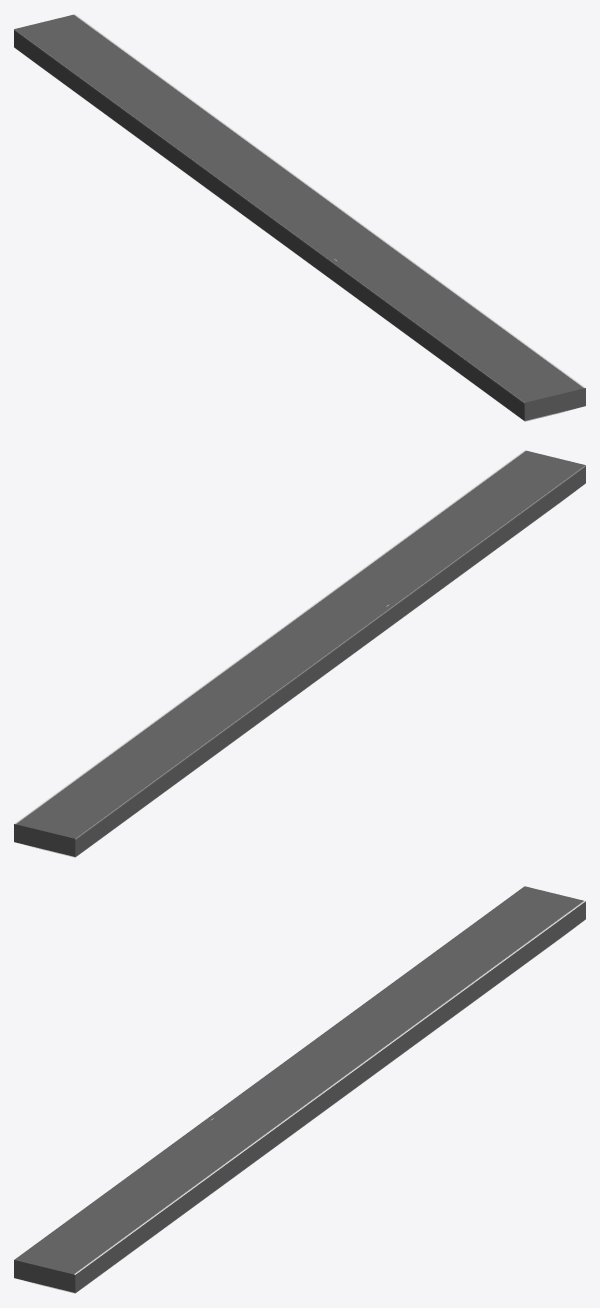
The model's file is lampa.glb.
3 renders of one model, top to bottom at view 1: azimuth 30°, elevation 25°; view 2: azimuth 150°, elevation 25°; view 3: azimuth 330°, elevation 25°, orthographic.
Parts seen in each view (by area): view 1: Cube.084; view 2: Cube.084; view 3: Cube.084.
Part boxes in pixels (x1=…): Cube.084: x1=14, y1=14, x2=585, y2=421; Cube.084: x1=14, y1=450, x2=585, y2=857; Cube.084: x1=14, y1=886, x2=585, y2=1293.
Bounding box in the file's own units: 0.4706 × 0.2311 × 6.77.
1 material, 1 textured.
